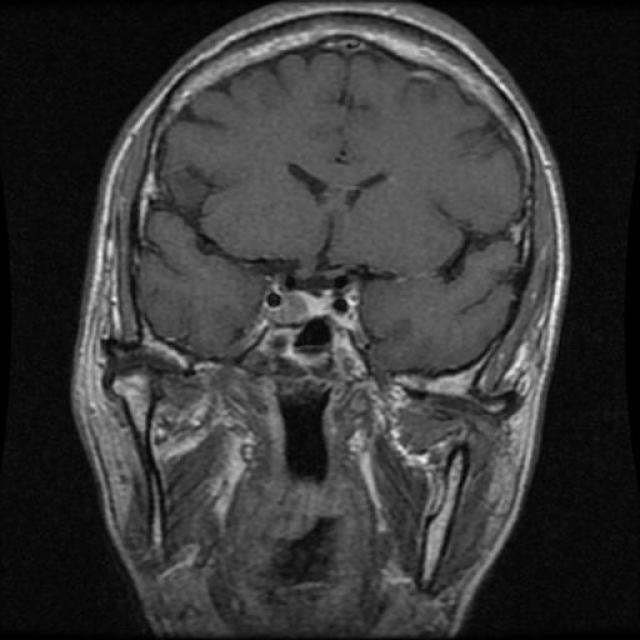pituitary: (252, 258, 372, 364)
